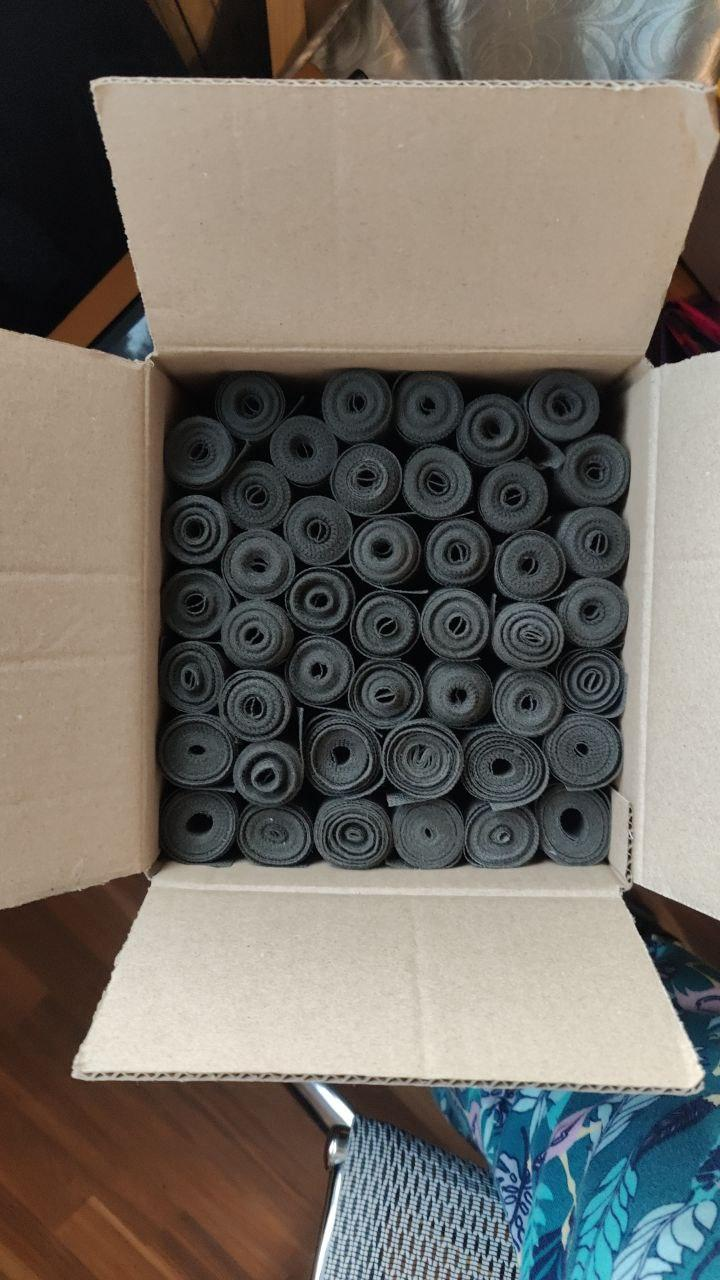roll: (459, 726, 550, 810), (302, 709, 384, 798), (381, 718, 468, 801), (535, 781, 615, 868), (157, 786, 241, 868), (542, 711, 625, 793), (553, 431, 634, 513), (522, 368, 605, 448), (554, 503, 635, 584), (156, 712, 238, 792), (312, 793, 394, 872), (389, 794, 470, 873), (280, 490, 358, 572), (491, 527, 570, 606), (400, 442, 477, 523), (162, 413, 239, 494), (475, 458, 553, 537), (554, 574, 632, 653), (218, 666, 296, 744), (320, 366, 396, 446), (463, 797, 543, 873), (418, 584, 495, 662), (455, 390, 532, 468), (490, 663, 568, 739), (490, 597, 569, 672), (392, 369, 467, 448), (347, 512, 423, 589), (218, 596, 295, 672), (330, 441, 405, 519), (160, 565, 235, 643), (157, 637, 232, 715), (161, 491, 235, 570), (219, 528, 296, 603), (421, 515, 496, 592), (219, 459, 294, 536), (229, 736, 306, 811), (236, 798, 316, 870), (285, 633, 360, 709), (213, 370, 288, 445), (267, 414, 341, 490), (347, 656, 423, 729), (349, 587, 424, 660), (421, 656, 496, 729), (556, 646, 629, 721), (284, 566, 358, 639)
